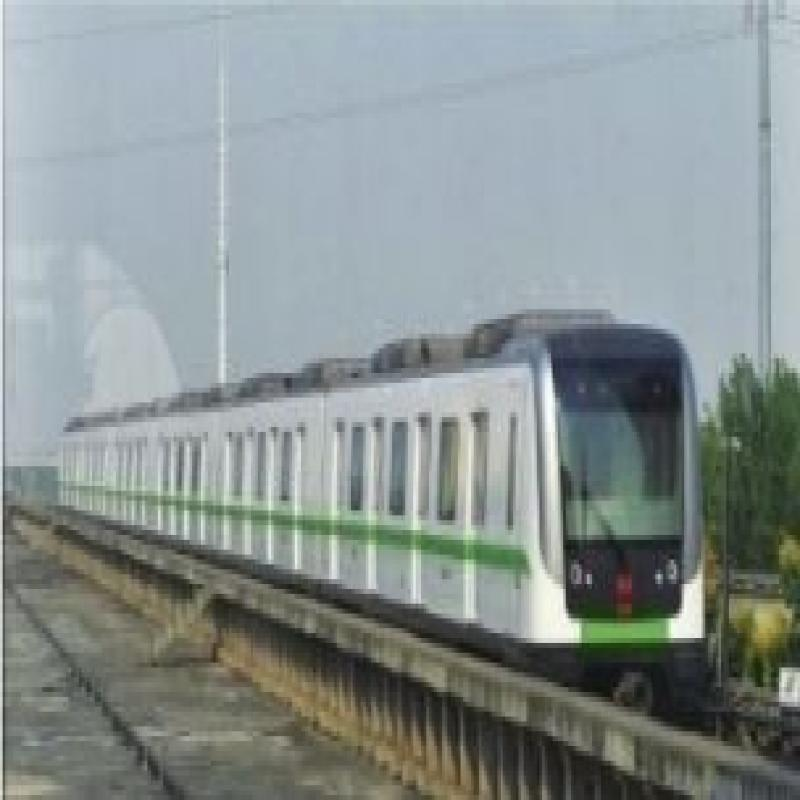train: (198, 340, 709, 683)
